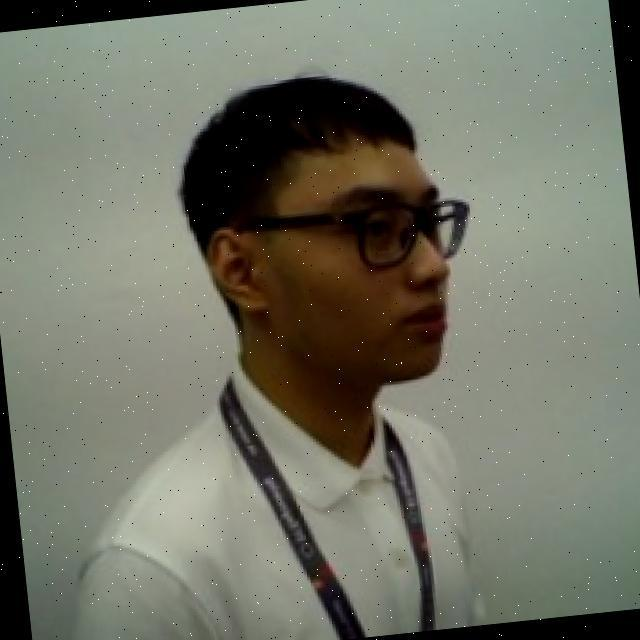no_gloves: (165, 49, 472, 260)
no_hairnet: (200, 193, 469, 404)
